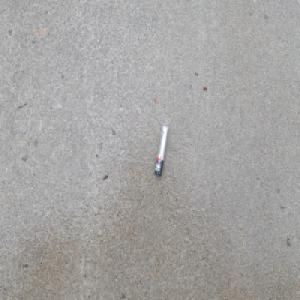Battery: (154, 123, 168, 177)
